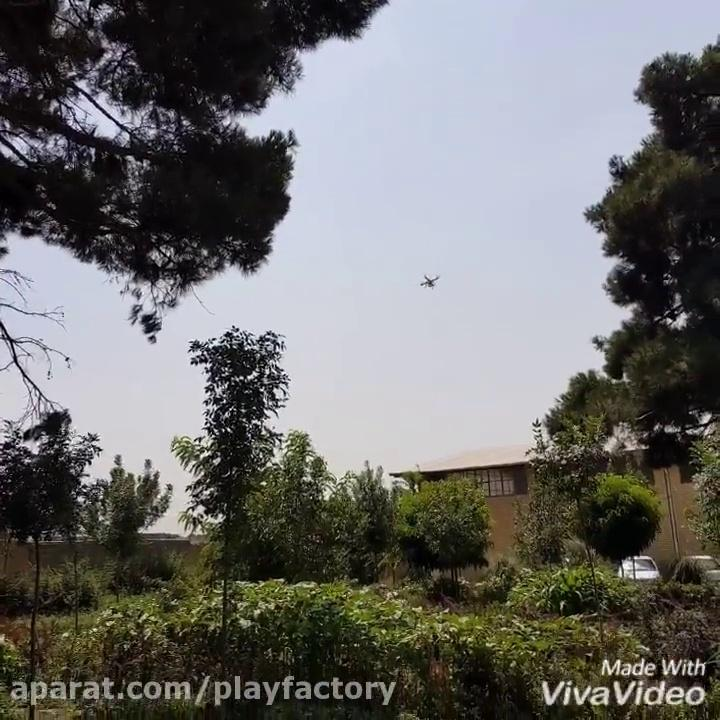drone: (417, 269, 442, 291)
